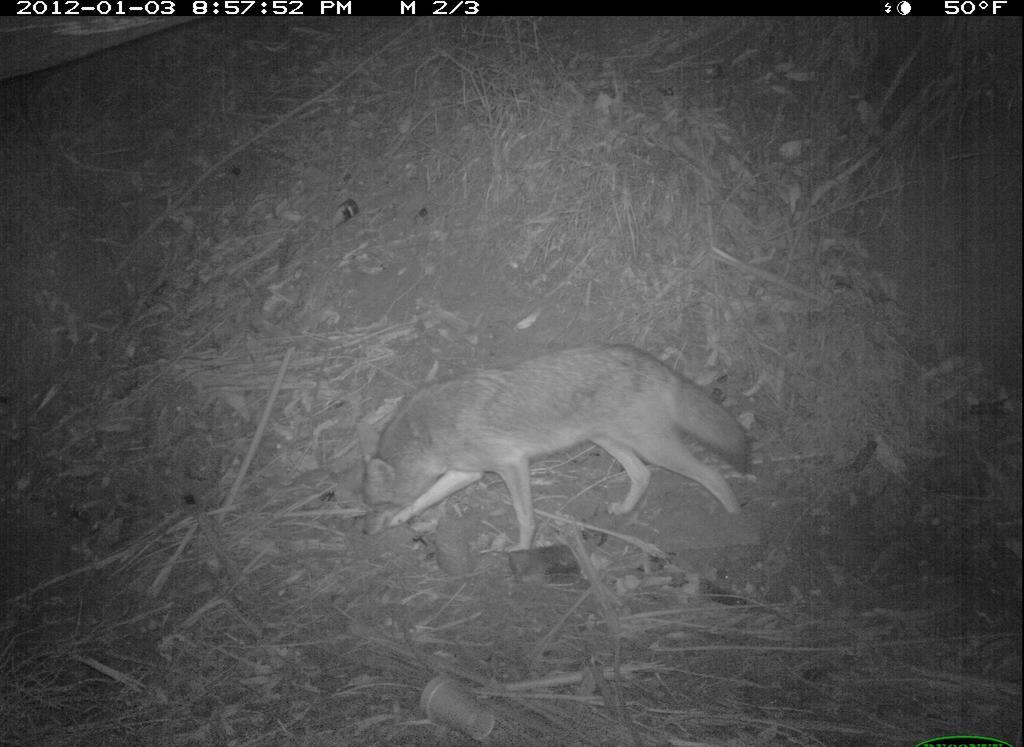coyote: (342, 336, 766, 561)
